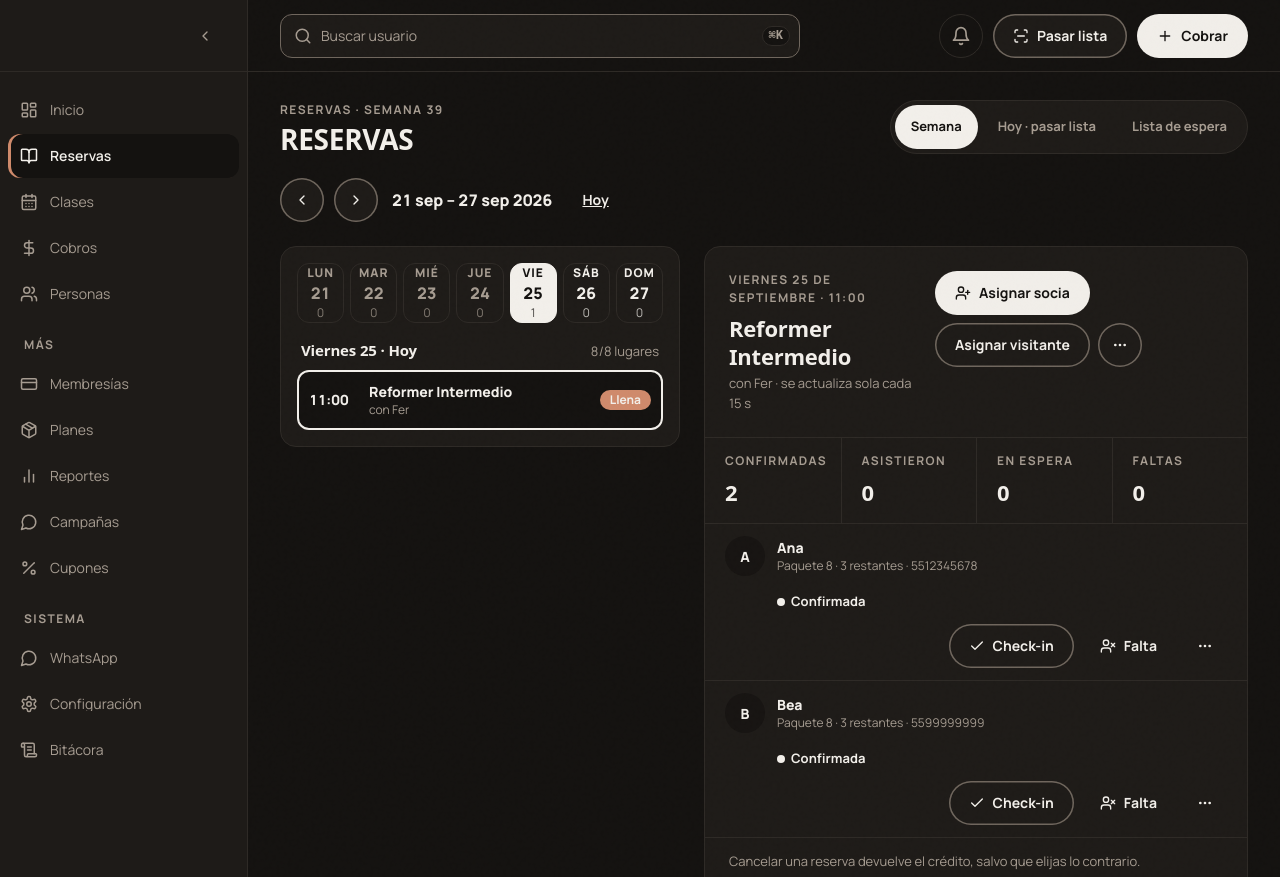
Cancelar clase · WhatsApp desconectado (P0-1) › con los avisos apagados por la dueña, el toast y el diálogo lo dicen en vez de 'desconectado'
Expected: the heading "Reformer Intermedio" is shown, [729,313,851,370]
Step 1. Click the button named "Más acciones de la clase" → click(1120, 345), box [1098,323,1142,367]
(page scrolled)
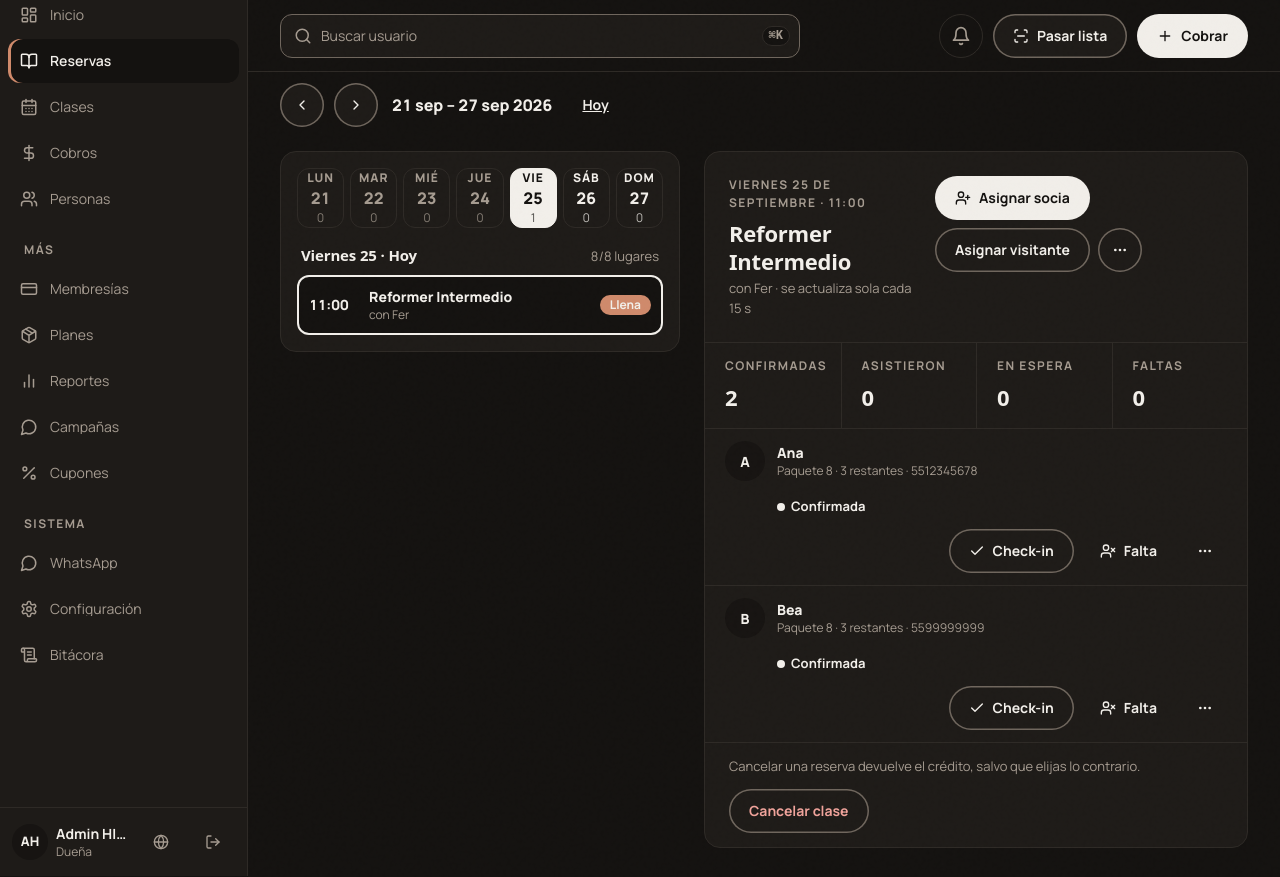
Step 2. Click the button "Cancelar clase" → click(799, 810), box [729,788,868,832]
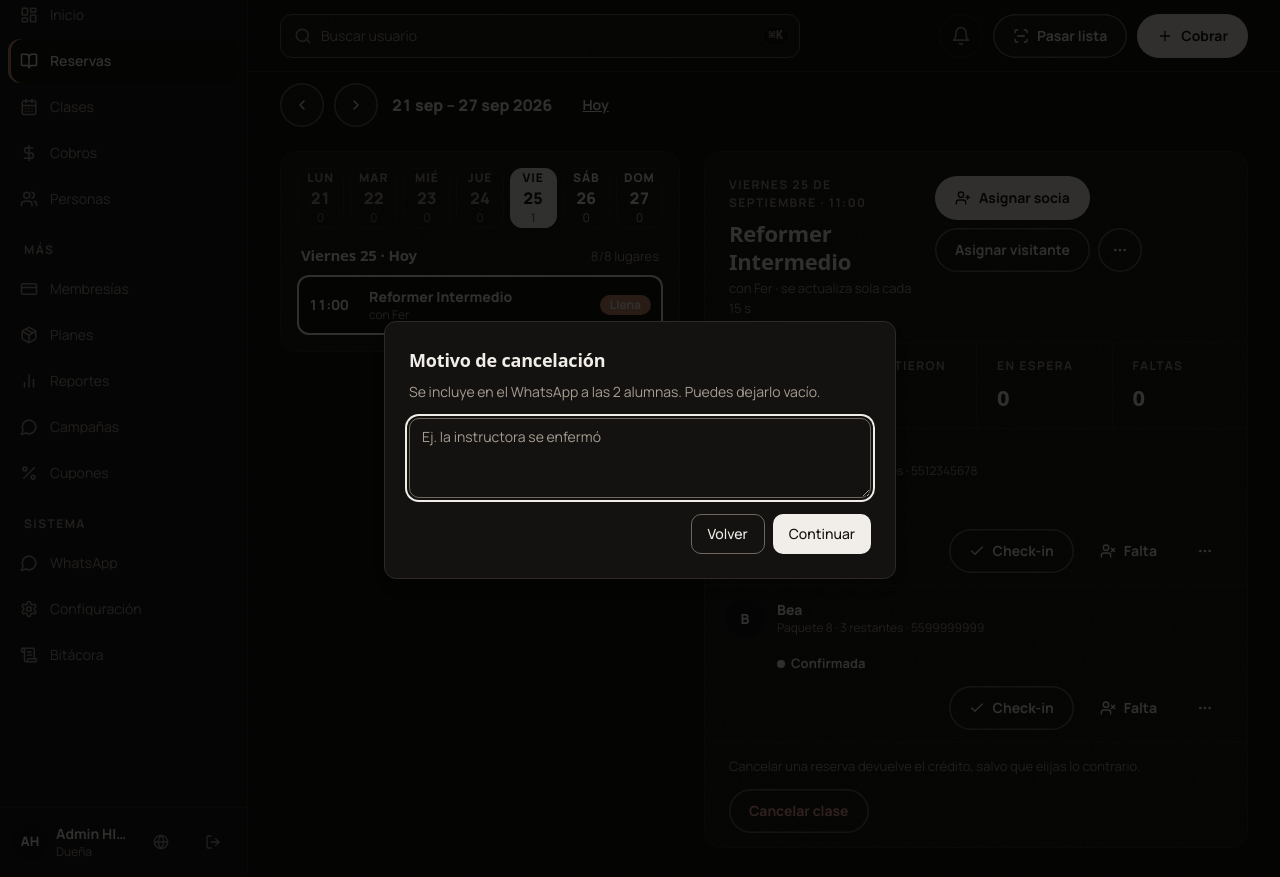
Now the heading "Motivo de cancelación" is shown, box [409,348,605,372]
Step 3. Click the button "Continuar" → click(822, 534), box [773,514,871,554]
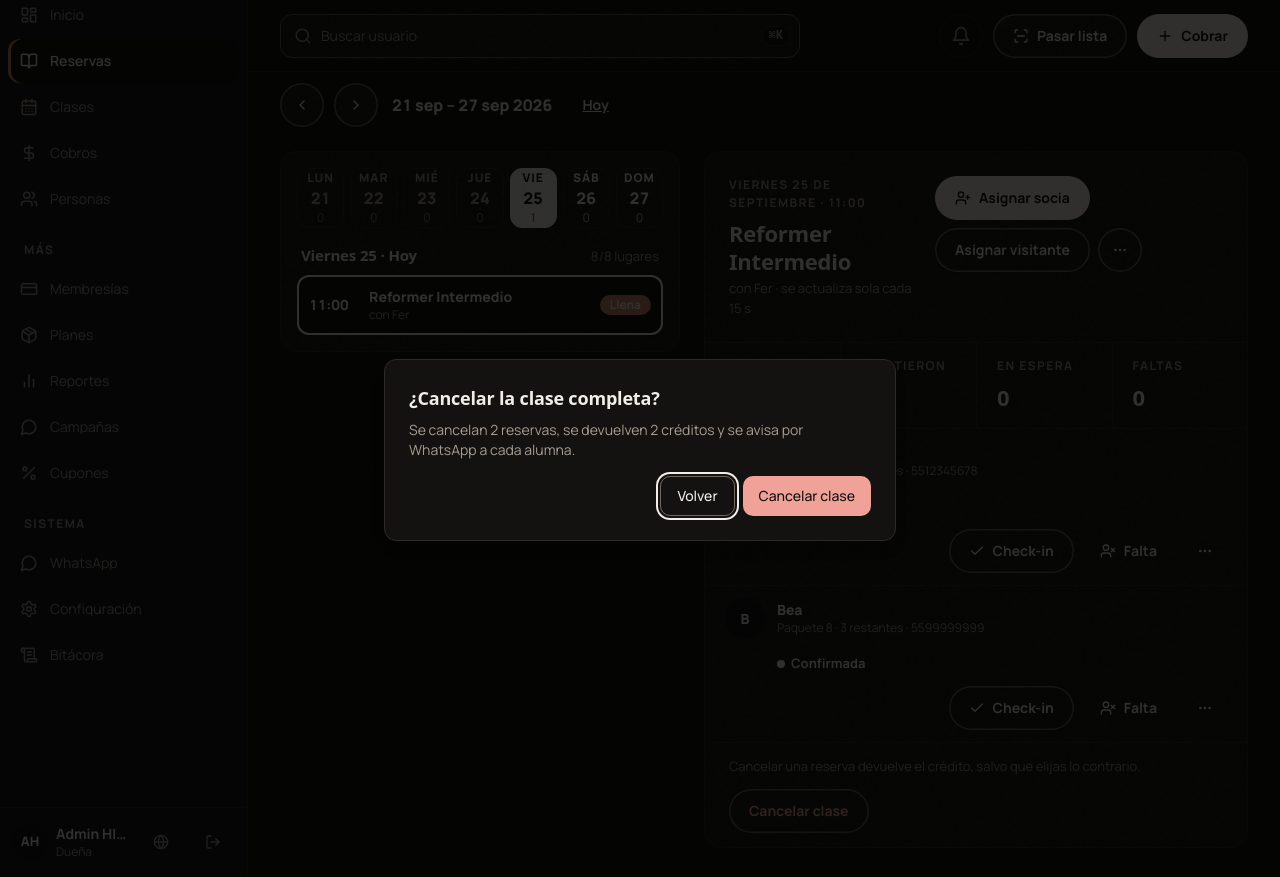
Now the heading "¿Cancelar la clase completa?" is shown, box [409,386,660,410]
Step 4. Click the button "Cancelar clase" → click(807, 496), box [743,476,871,516]
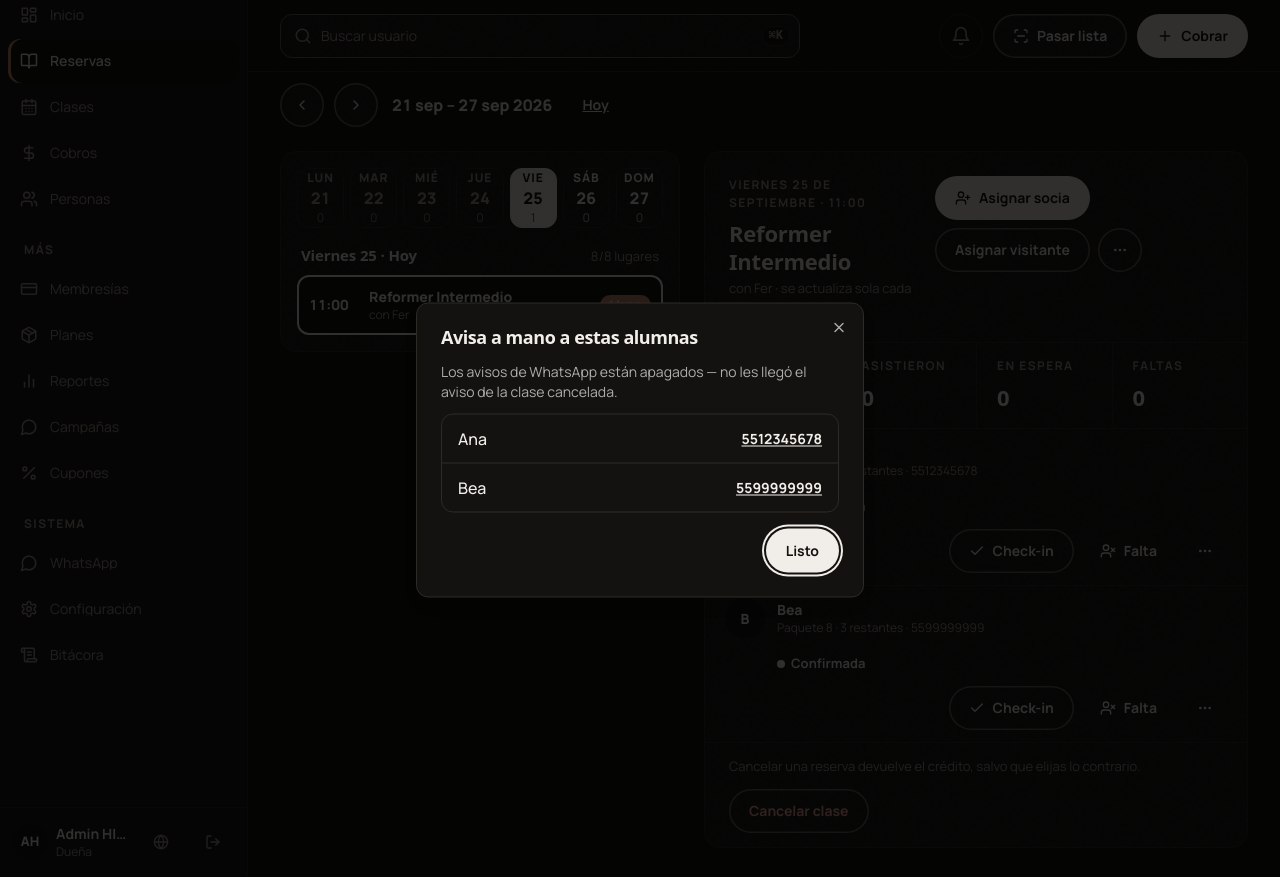
Now the text "Los avisos de WhatsApp están apagados" is shown, box [441,362,704,380]
Now the text "Ana" is shown, box [458,426,487,450]
